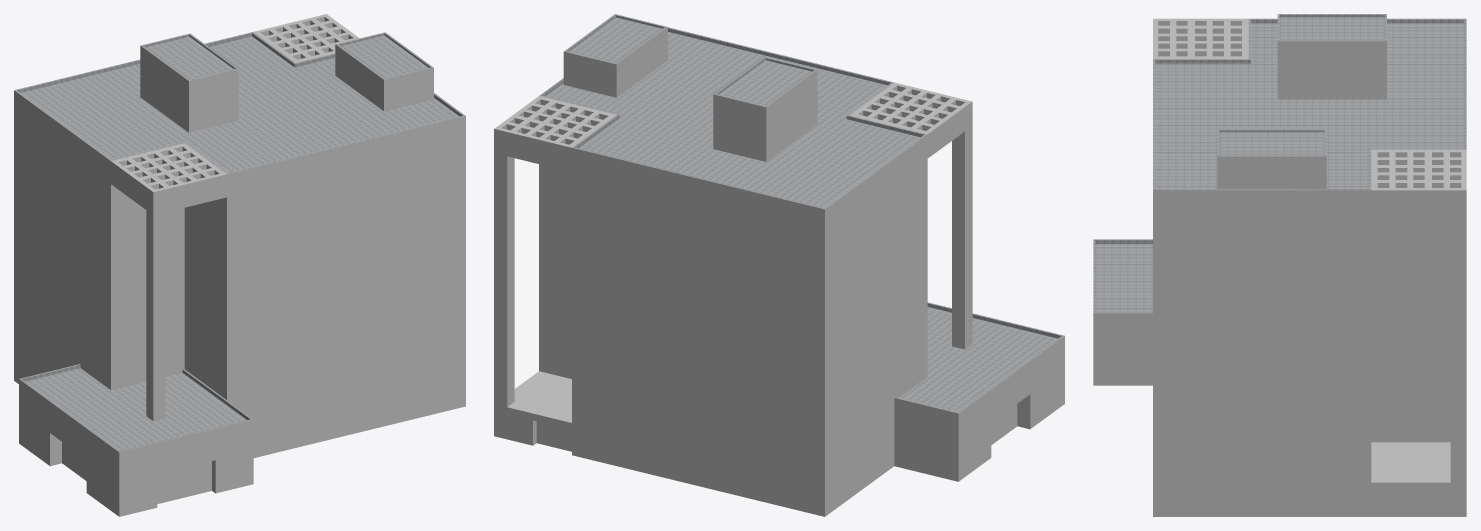
File: side building04.FBX
The picture shows the model from 3 angles, left to right: view 1: azimuth 30°, elevation 25°; view 2: azimuth 150°, elevation 25°; view 3: azimuth 270°, elevation 25°; orthographic projection. The views are drawn at different scales.
Parts seen in each view (by area): view 1: 航海科技园; view 2: 航海科技园; view 3: 航海科技园.
Boxes of the visible parts, x1,y1,x2,y2 form: 航海科技园: (14, 14, 465, 516); 航海科技园: (494, 14, 1064, 516); 航海科技园: (1093, 14, 1466, 516).
Size of the model in its own units: 60.5 by 46.62 by 52.5.
